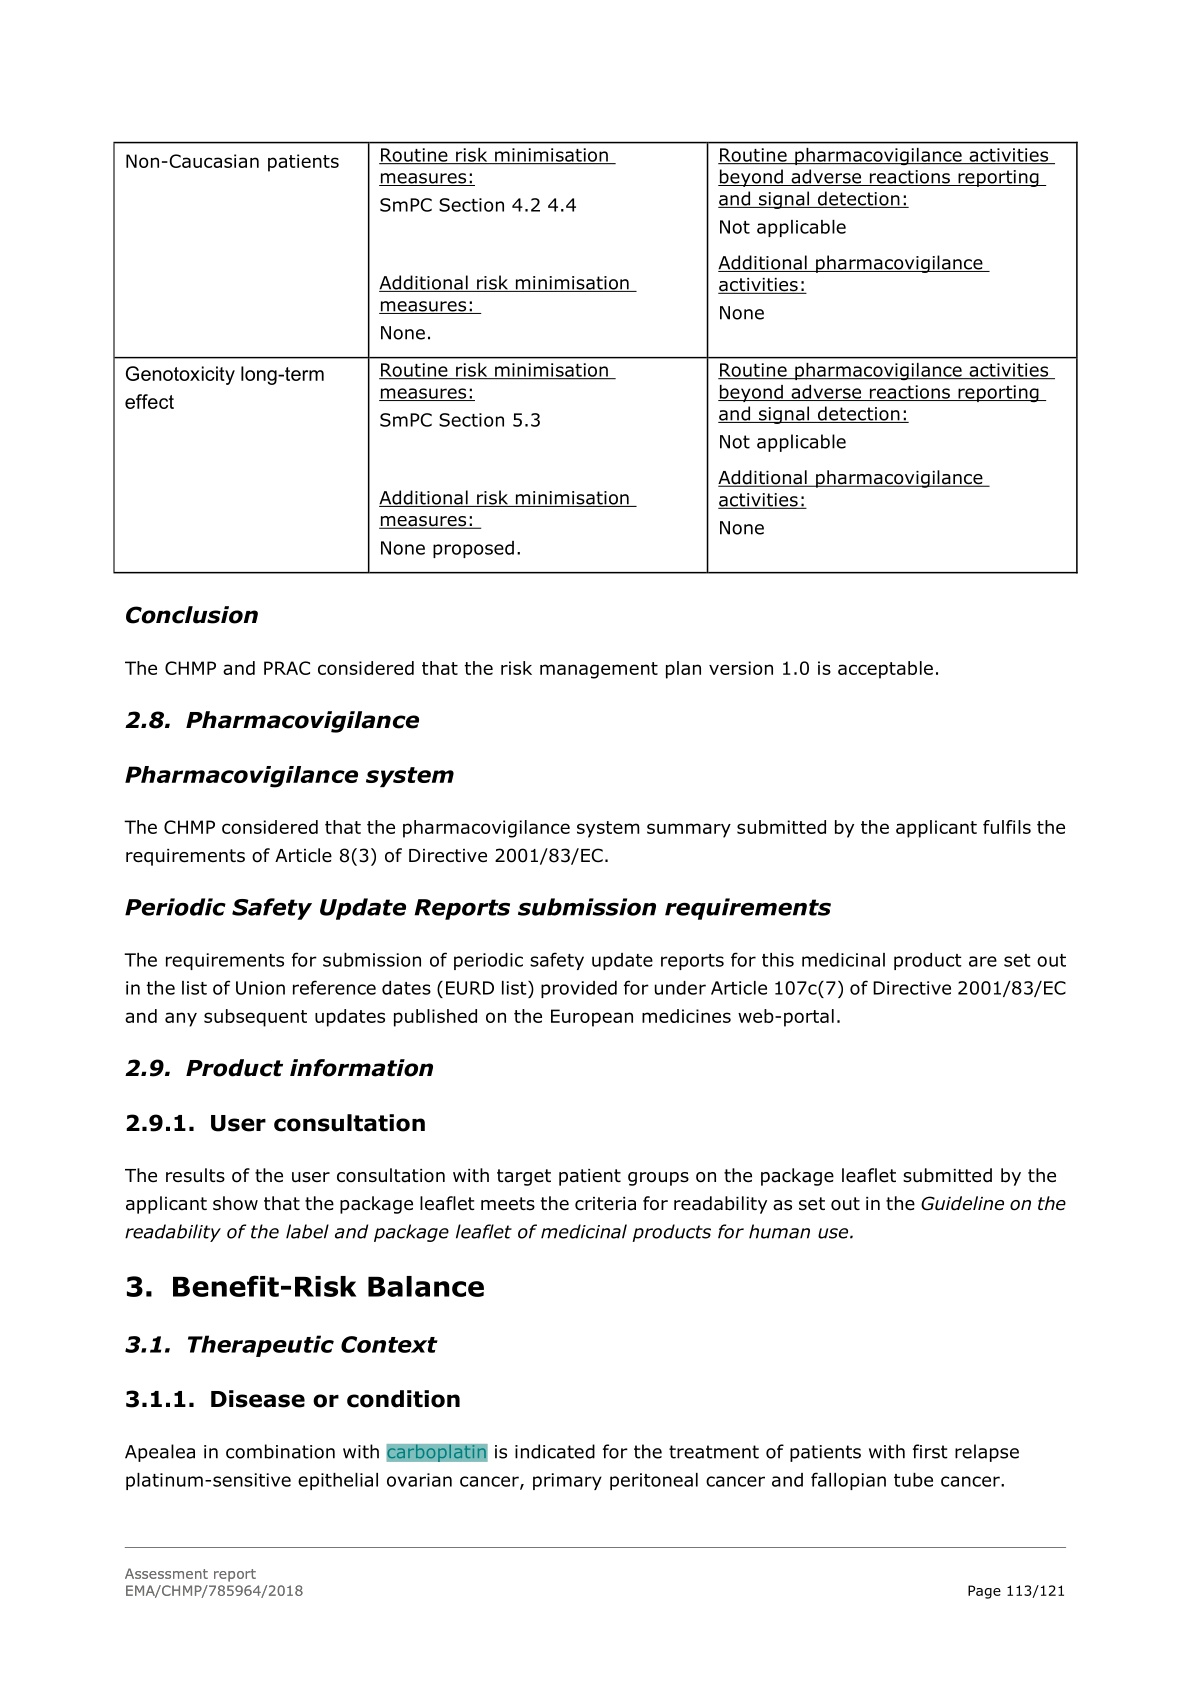full_lined: (112, 140, 1079, 575)
